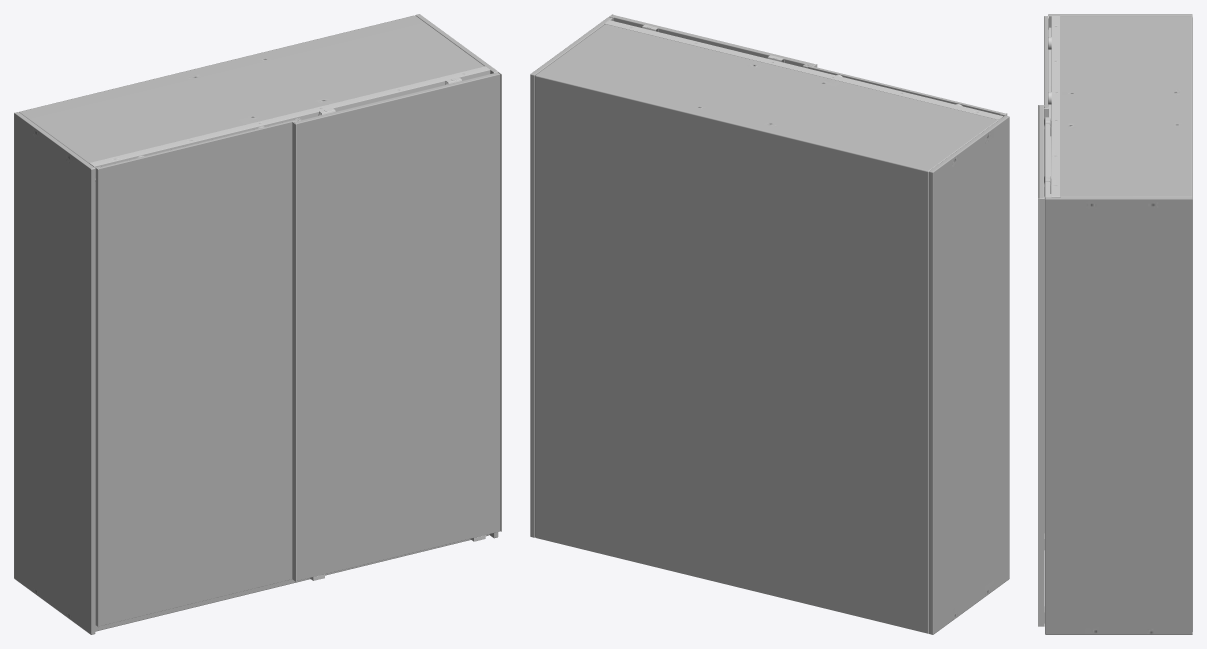
File: abo-B07GFSJ69T.glb
The picture shows the model from 3 angles, left to right: view 1: azimuth 30°, elevation 25°; view 2: azimuth 150°, elevation 25°; view 3: azimuth 270°, elevation 25°; orthographic projection. The views are drawn at different scales.
Size of the model in its own units: 1.78 by 1.96 by 0.629.
1 material, 1 textured.
